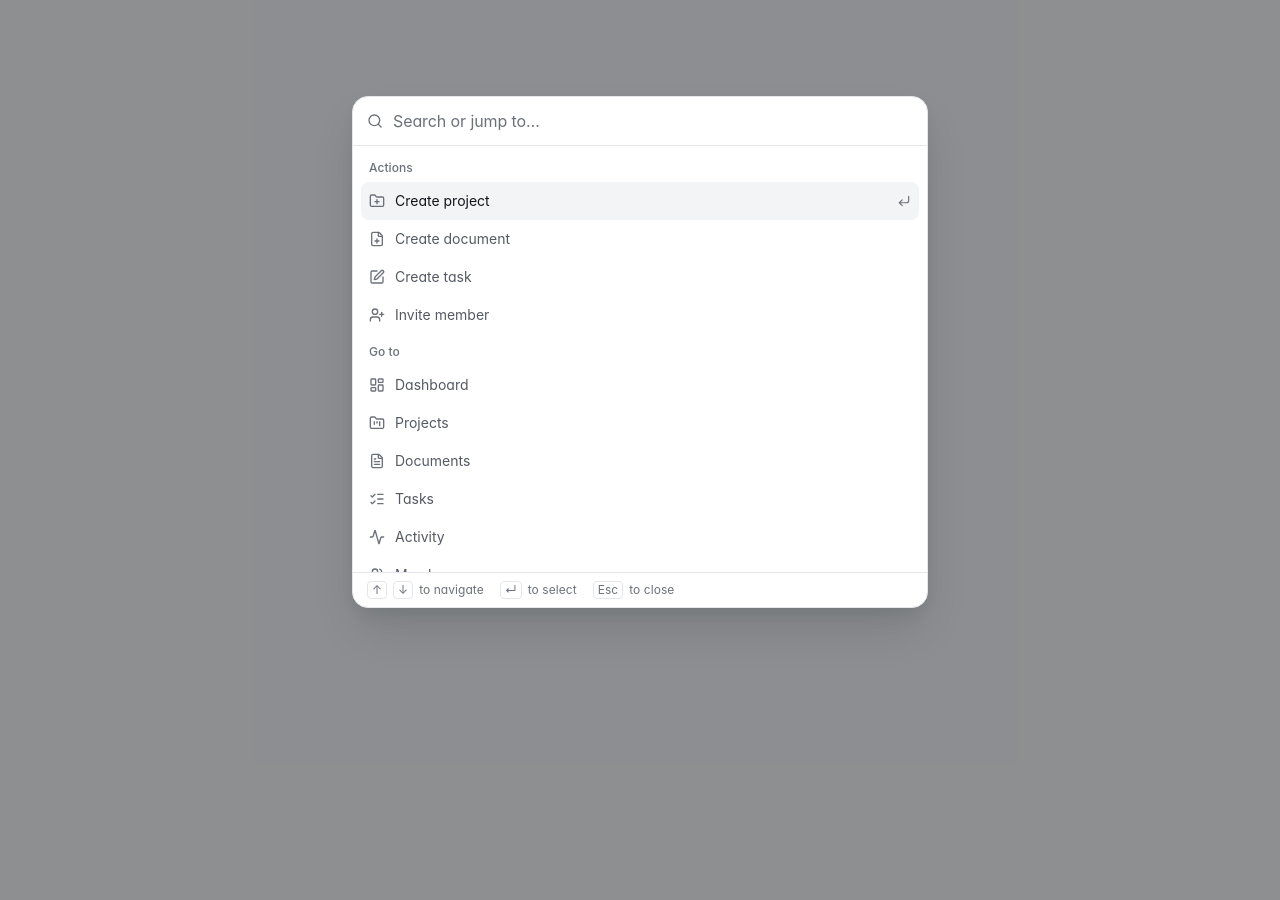
Test: CommandMenu › searching › returns matches from the server, grouped by type
The width and height of the screenshot is (1280, 900).
In the dropdown: (653, 121) [393,97,913,145], type "payment"
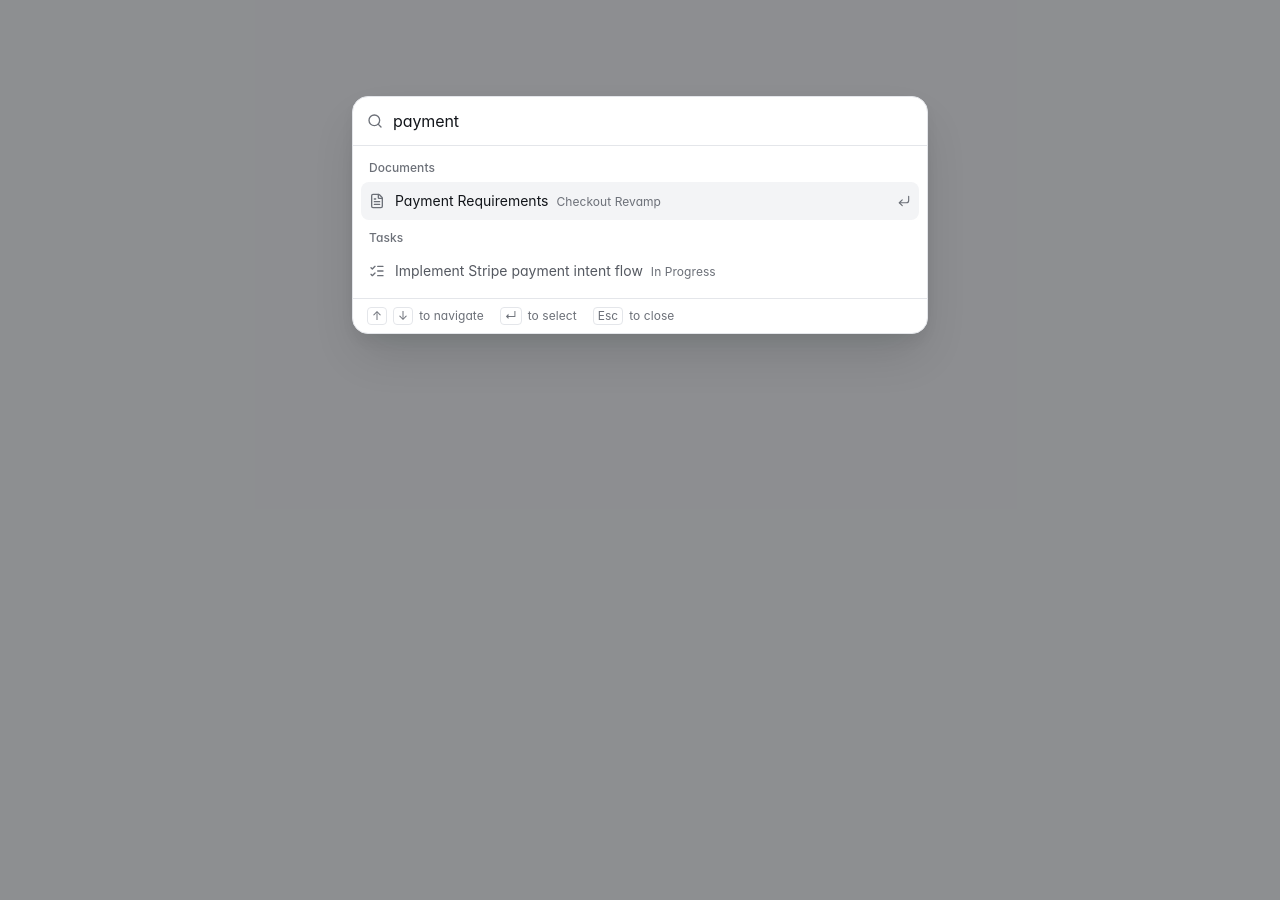
Expected: the element "Tasks" is shown, [369,230,716,279]
Expected: the option "Payment Requirements" is shown, [361,182,919,220]
Expected: the element "Documents" is shown, [361,154,919,220]
